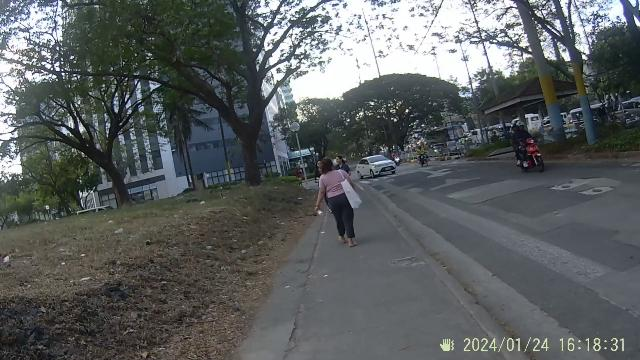car: (357, 152, 398, 180)
lamp_post: (290, 121, 310, 187)
motorcycle: (514, 137, 546, 173)
tree: (227, 86, 271, 182)
